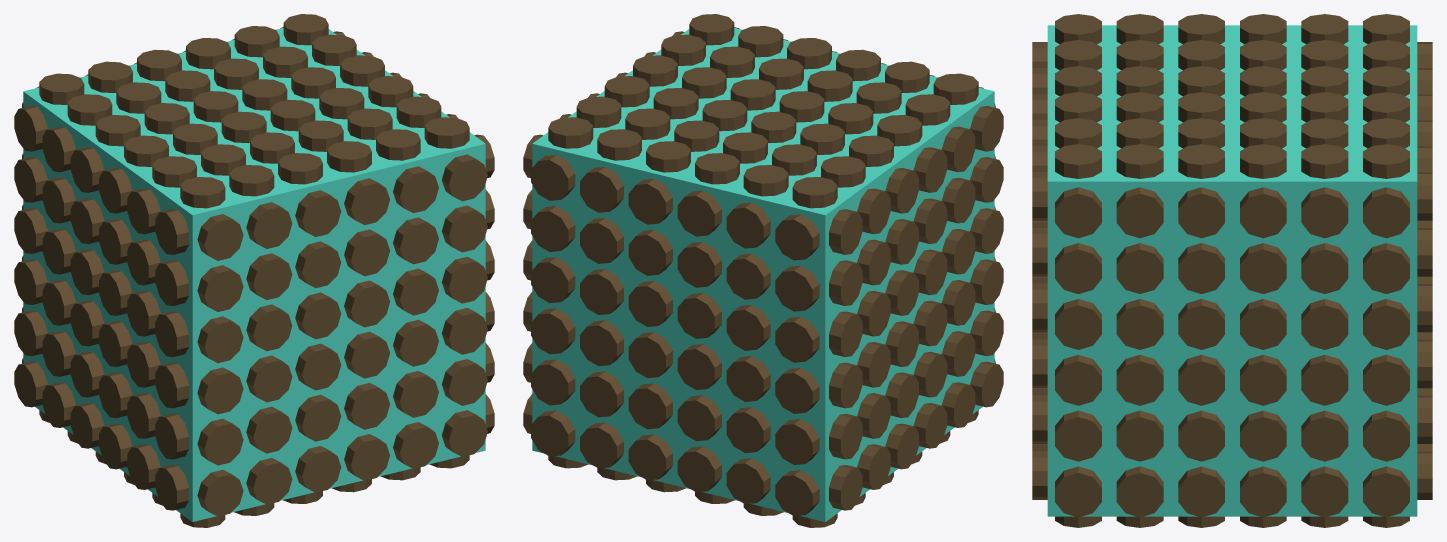
Rendered from BoardPlaceholder.fbx.
3 views of the same model, side by side, from view 1: azimuth 30°, elevation 25°; view 2: azimuth 150°, elevation 25°; view 3: azimuth 270°, elevation 25° (orthographic). The views are drawn at different scales.
Visible parts, largest first — view 1: Base, pCylinder35 (×3), pCylinder33 (×3), pCylinder36 (×3), pCylinder34 (×3), pCylinder31 (×3), pCylinder32 (×3), pCylinder16 (×3), pCylinder18 (×3), pCylinder11 (×3), pCylinder10 (×3), pCylinder7 (×3) (+25 smaller); view 2: Base, pCylinder21 (×3), pCylinder23 (×3), pCylinder24 (×3), pCylinder20 (×3), pCylinder19 (×3), pCylinder22 (×3), pCylinder29 (×3), pCylinder30 (×3), pCylinder28 (×3), pCylinder1 (×3), pCylinder4 (×3) (+25 smaller); view 3: Base, pCylinder21 (×4), pCylinder27 (×4), pCylinder15 (×4), pCylinder9 (×3), pCylinder3 (×3), pCylinder33 (×3), pCylinder22 (×3), pCylinder24 (×3), pCylinder20 (×3), pCylinder19 (×3), pCylinder23 (×3) (+25 smaller).
Boxes of the visible parts, left/top/right/bottom form: Base: left=23, top=28, right=485, bottom=521; pCylinder35 (×3): left=155, top=165, right=292, bottom=504; pCylinder33 (×3): left=155, top=117, right=487, bottom=456; pCylinder36 (×3): left=155, top=177, right=243, bottom=516; pCylinder34 (×3): left=155, top=153, right=341, bottom=492; pCylinder31 (×3): left=155, top=141, right=389, bottom=480; pCylinder32 (×3): left=155, top=129, right=438, bottom=468; pCylinder16 (×3): left=42, top=70, right=341, bottom=325; pCylinder18 (×3): left=42, top=94, right=243, bottom=427; pCylinder11 (×3): left=70, top=103, right=292, bottom=397; pCylinder10 (×3): left=70, top=91, right=341, bottom=346; pCylinder7 (×3): left=70, top=79, right=389, bottom=327; Base: left=532, top=28, right=994, bottom=521; pCylinder21 (×3): left=531, top=117, right=862, bottom=254; pCylinder23 (×3): left=531, top=165, right=862, bottom=459; pCylinder24 (×3): left=531, top=177, right=862, bottom=510; pCylinder20 (×3): left=531, top=129, right=862, bottom=305; pCylinder19 (×3): left=531, top=141, right=862, bottom=357; pCylinder22 (×3): left=531, top=153, right=862, bottom=408; pCylinder29 (×3): left=726, top=82, right=975, bottom=452; pCylinder30 (×3): left=726, top=94, right=975, bottom=504; pCylinder28 (×3): left=726, top=70, right=975, bottom=401; pCylinder1 (×3): left=677, top=79, right=947, bottom=338; pCylinder4 (×3): left=677, top=91, right=947, bottom=389; Base: left=1047, top=25, right=1417, bottom=516; pCylinder21 (×4): left=1032, top=144, right=1432, bottom=517; pCylinder27 (×4): left=1032, top=144, right=1348, bottom=527; pCylinder15 (×4): left=1032, top=144, right=1348, bottom=527; pCylinder9 (×3): left=1032, top=144, right=1286, bottom=517; pCylinder3 (×3): left=1032, top=144, right=1224, bottom=517; pCylinder33 (×3): left=1032, top=144, right=1101, bottom=517; pCylinder22 (×3): left=1363, top=66, right=1432, bottom=388; pCylinder24 (×3): left=1363, top=14, right=1432, bottom=499; pCylinder20 (×3): left=1363, top=118, right=1432, bottom=461; pCylinder19 (×3): left=1363, top=92, right=1432, bottom=405; pCylinder23 (×3): left=1363, top=40, right=1432, bottom=443.
Size of the model in its own units: 6.5 by 6.5 by 6.5.
